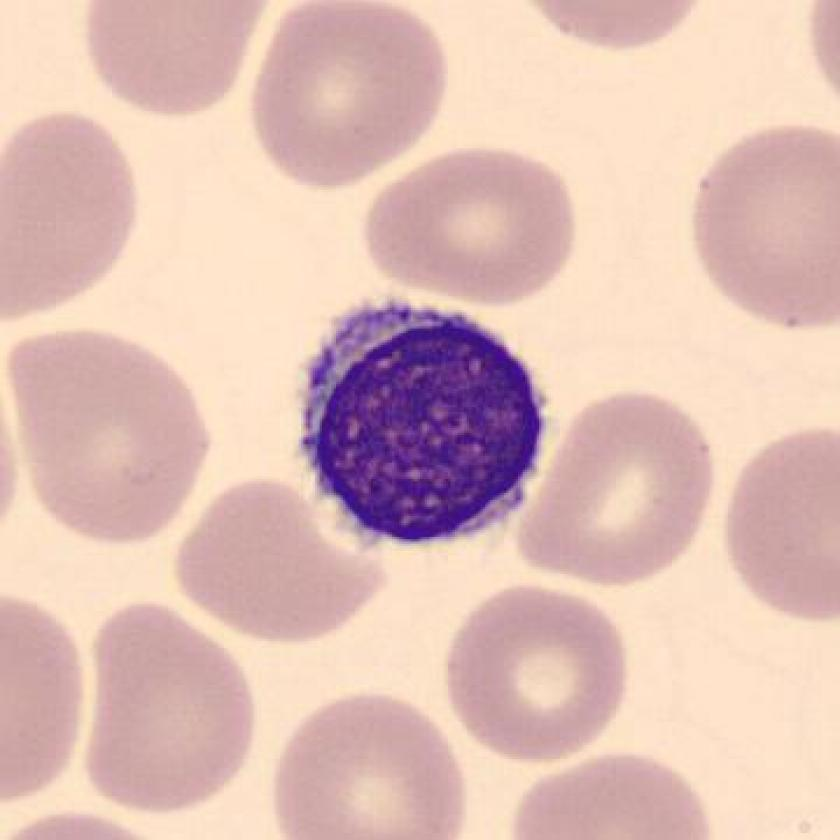lymphocyte: (279, 279, 559, 577)
